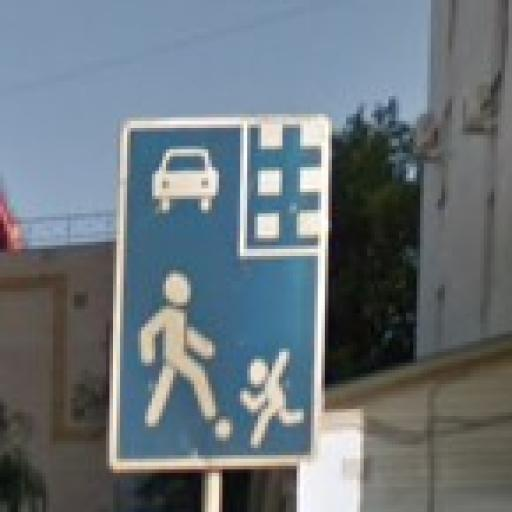traffic_sign: (111, 118, 330, 474)
